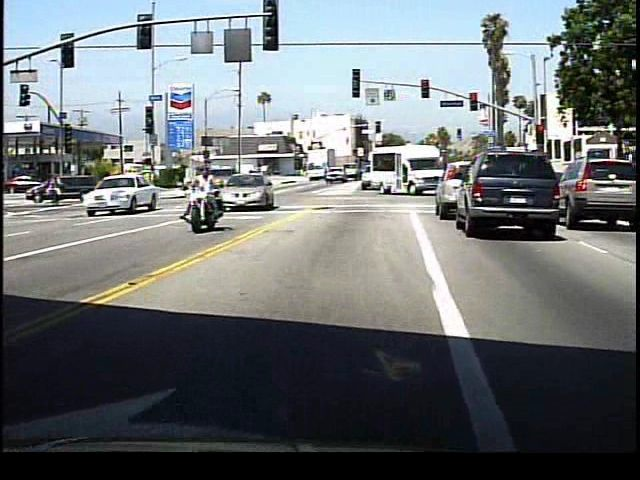person: (190, 166, 230, 230)
